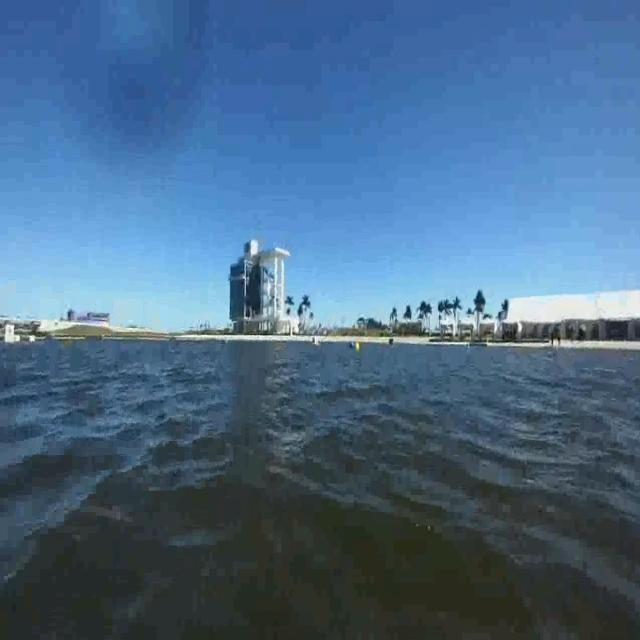yellow-buoy: (355, 342, 362, 354)
